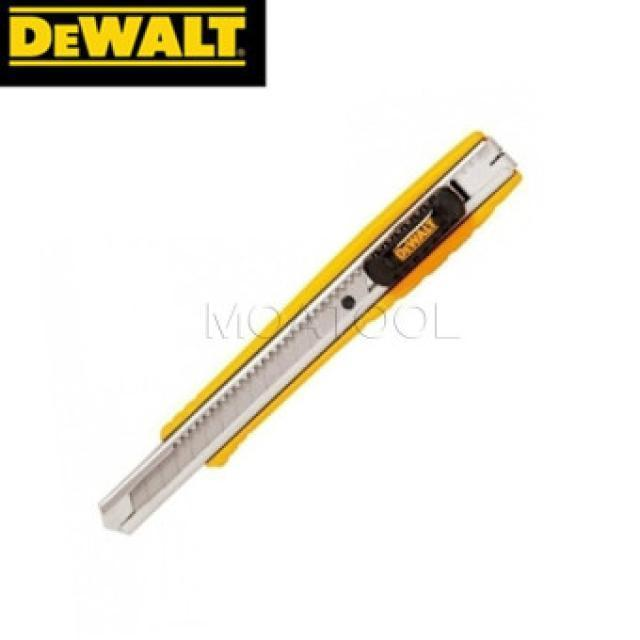cutter: (89, 123, 532, 546)
